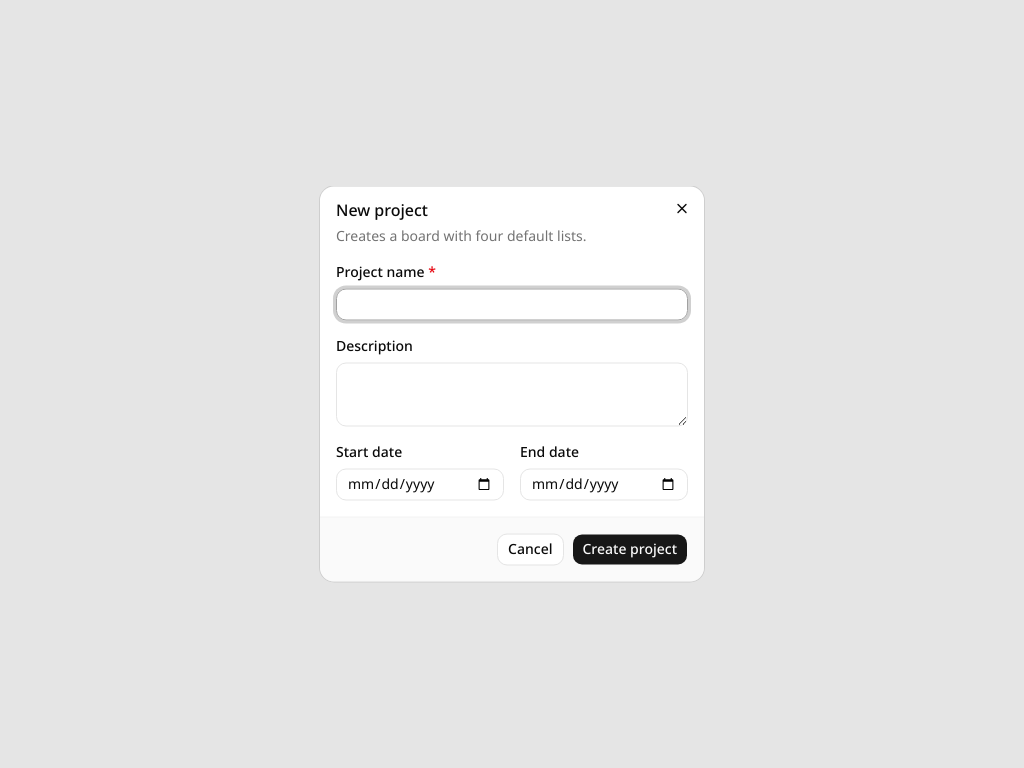
Test: CreateProjectDialog extras › shows translated text for a non-field conflict error
Type "A" into the field labelled "Project name *" at (512,304), box [336,288,688,320]
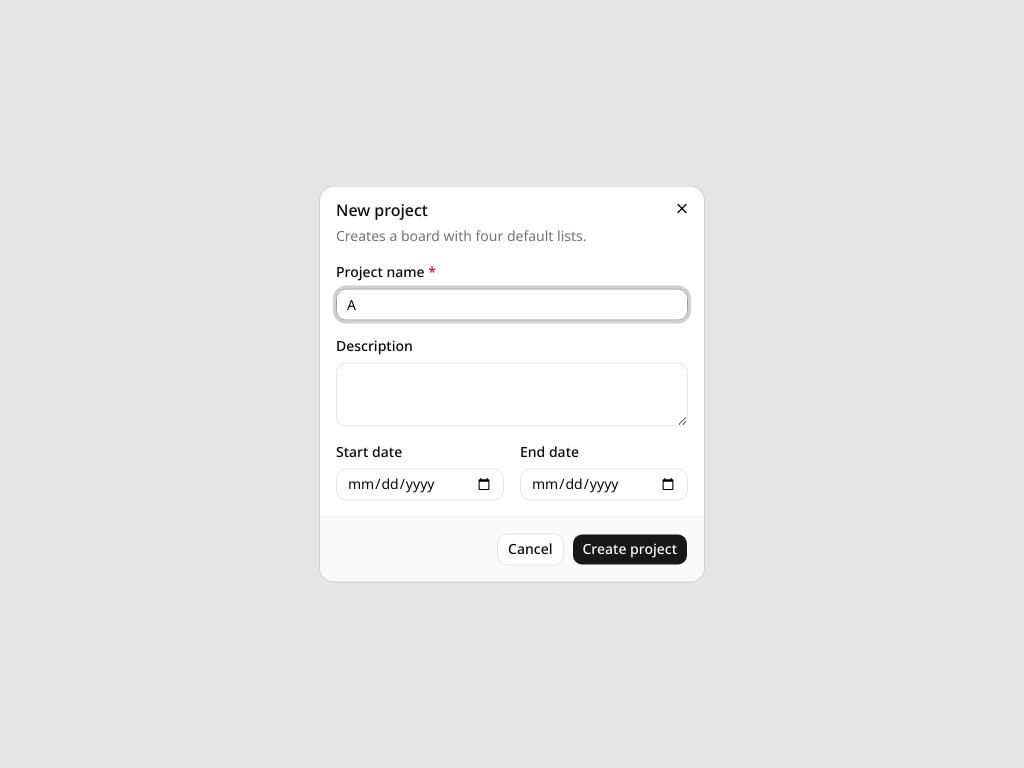
Click the button "Create project" at (630,550), box [572,534,688,566]
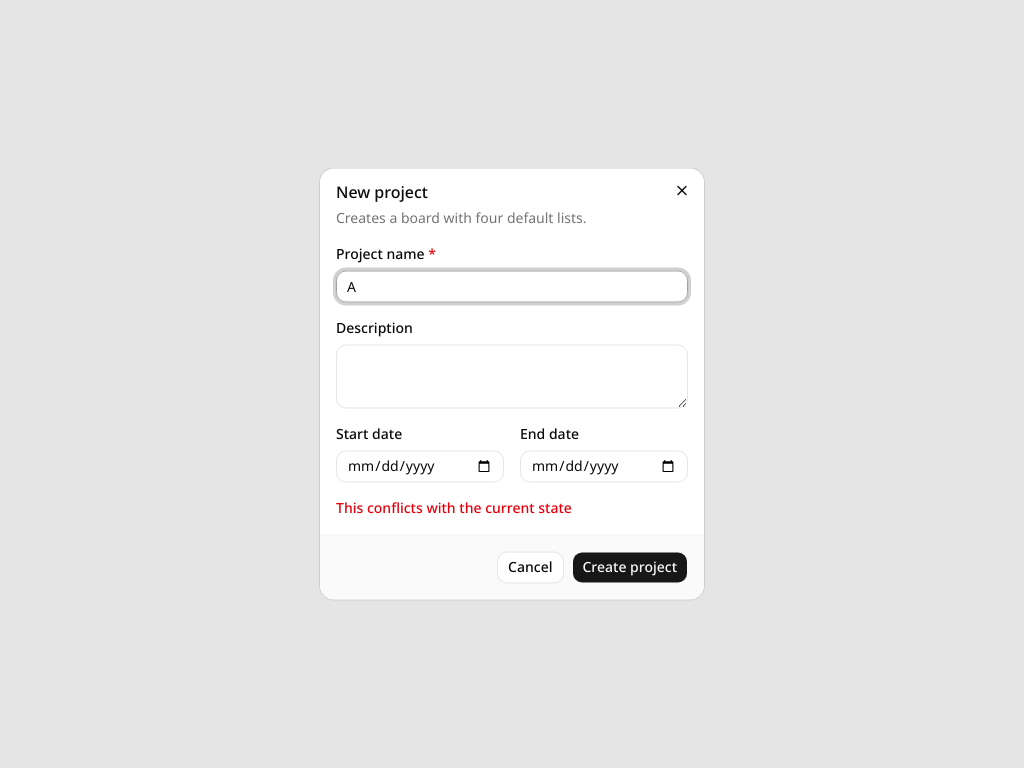
Check: the message reads "This conflicts with the current state", box [336,498,572,518]
